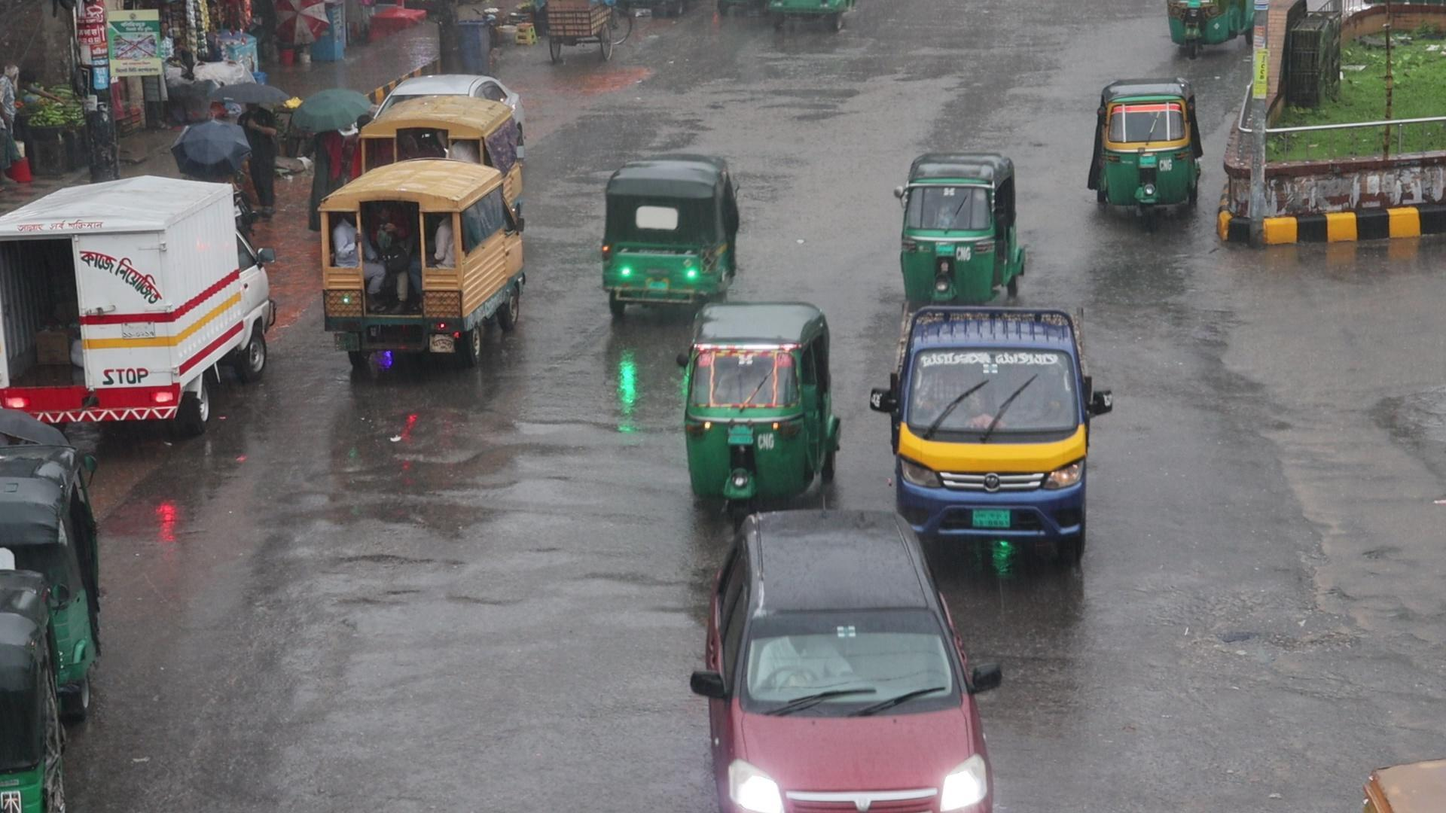Car: (710, 501, 994, 813)
Truck: (890, 310, 1088, 569), (309, 155, 522, 384)
